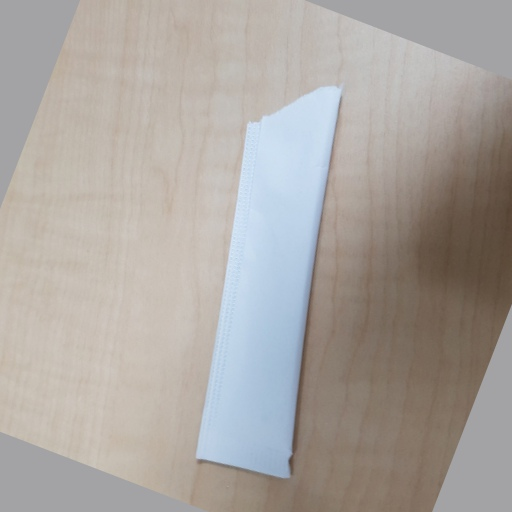Paper_2: (194, 82, 343, 478)
